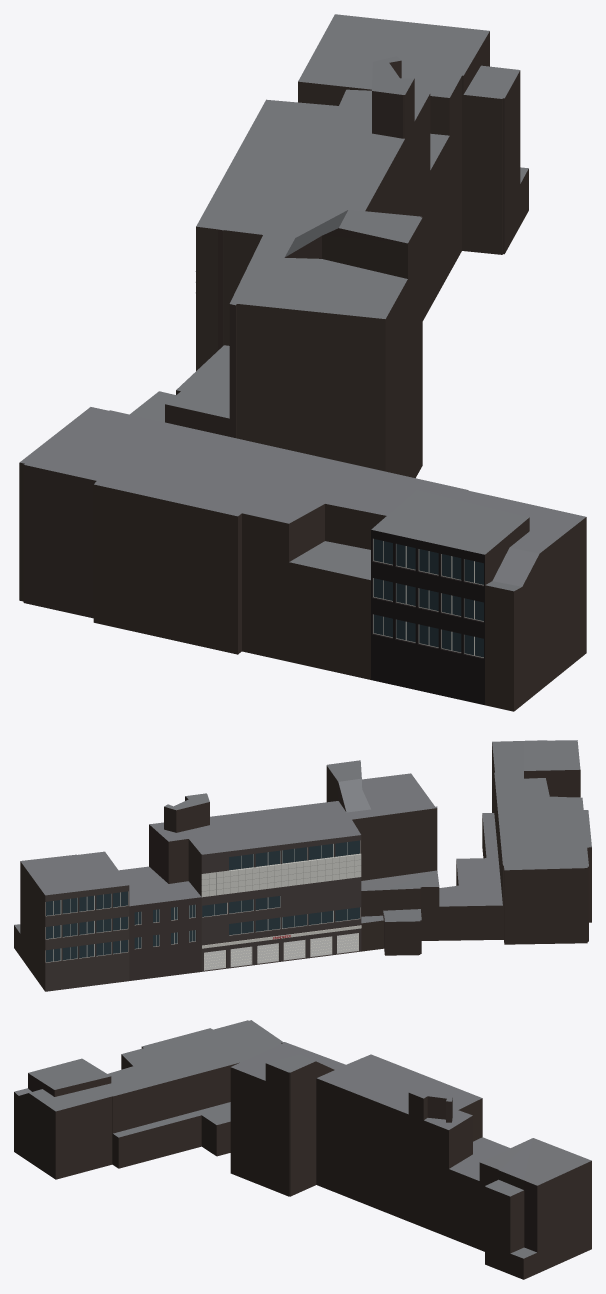
File: recipe-large-politie-ij-tunnel.glb
The picture shows the model from 3 angles, top to bottom: view 1: azimuth 30°, elevation 25°; view 2: azimuth 150°, elevation 25°; view 3: azimuth 270°, elevation 25°; orthographic projection. The views are drawn at different scales.
Visible parts, largest first — view 1: politie-ij-tunnel; view 2: politie-ij-tunnel; view 3: politie-ij-tunnel.
Part boxes in pixels (x1,y1,x2,y2): politie-ij-tunnel: [19, 14, 586, 711]; politie-ij-tunnel: [14, 740, 591, 991]; politie-ij-tunnel: [14, 1020, 591, 1279].
Bounding box in the file's own units: 76.37 × 24.1 × 97.8.
